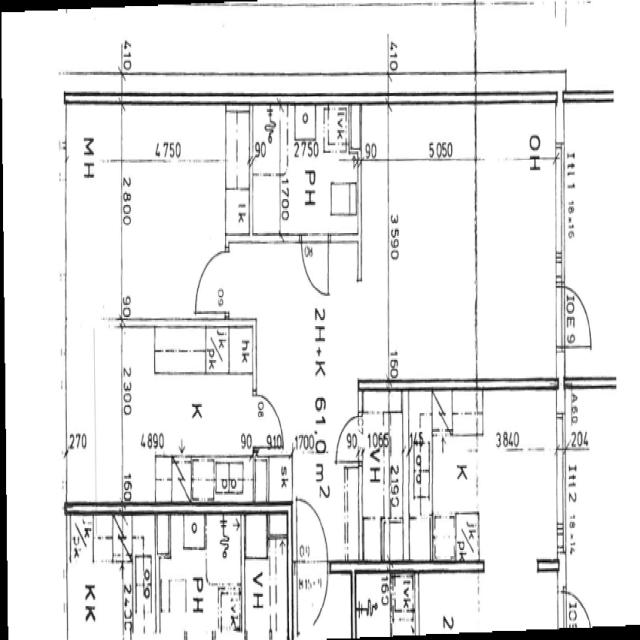door: (293, 491, 331, 635), (192, 245, 227, 316), (561, 284, 595, 352), (252, 388, 286, 452), (300, 232, 332, 298), (335, 414, 363, 466), (562, 590, 595, 630)
window: (552, 149, 568, 272), (554, 431, 568, 544)
zone: (358, 103, 475, 388), (424, 385, 564, 568), (119, 326, 258, 502), (474, 117, 561, 395), (122, 106, 229, 324), (561, 93, 637, 370), (564, 386, 640, 632), (359, 388, 431, 566), (152, 512, 245, 639), (274, 101, 359, 236), (65, 513, 143, 640), (245, 512, 291, 640), (251, 101, 285, 233), (225, 105, 251, 240), (354, 569, 392, 638)
